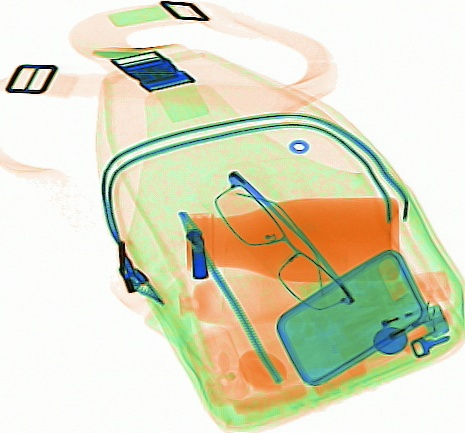lighter: (343, 300, 447, 355)
